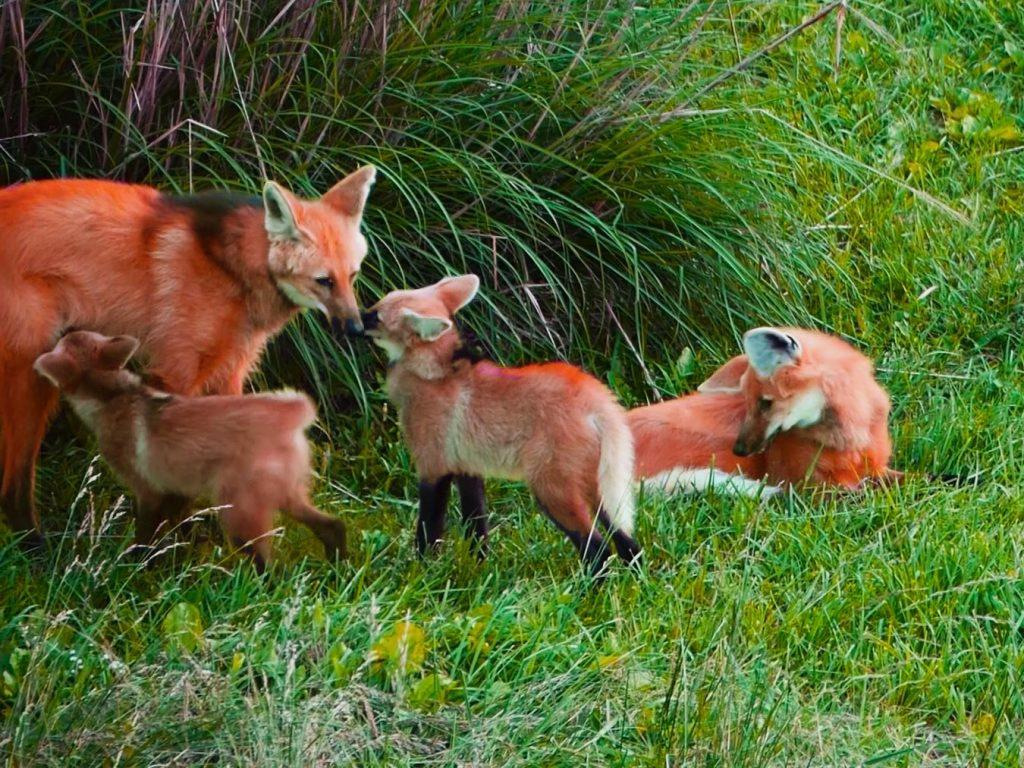LoboGuara: (336, 278, 647, 568), (28, 328, 347, 578), (4, 149, 375, 360), (608, 315, 890, 508)
